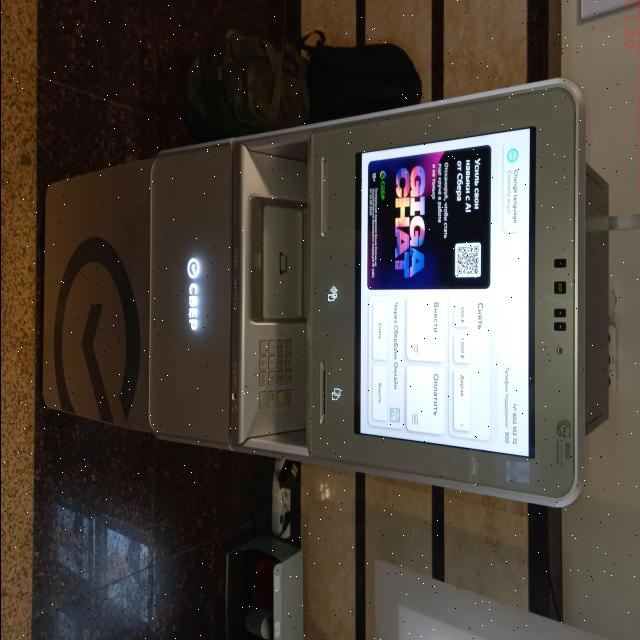bank: (41, 84, 613, 508)
